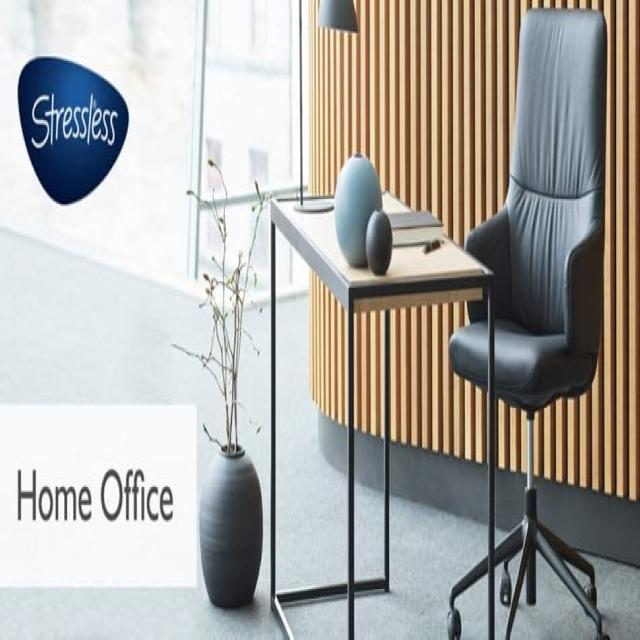chair: (446, 6, 609, 638)
